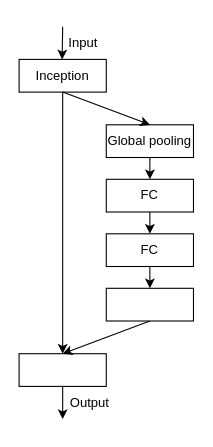
This 213x447 diagram has some shape labels left out. Each missing label, with the box of its shape:
Scale: (18, 353, 106, 386)
Sigmoid: (105, 287, 193, 321)
